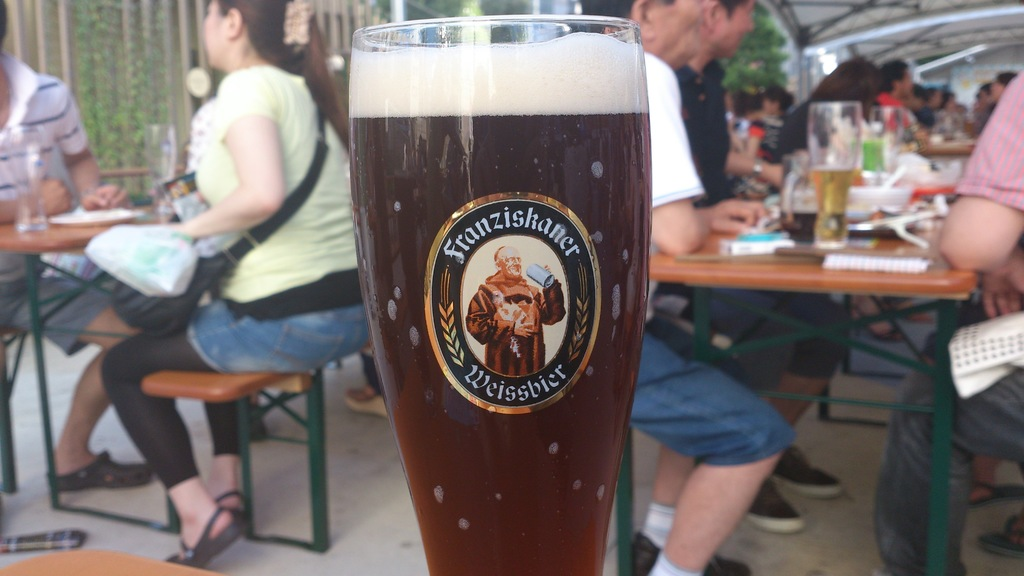Beer: (346, 32, 652, 575)
